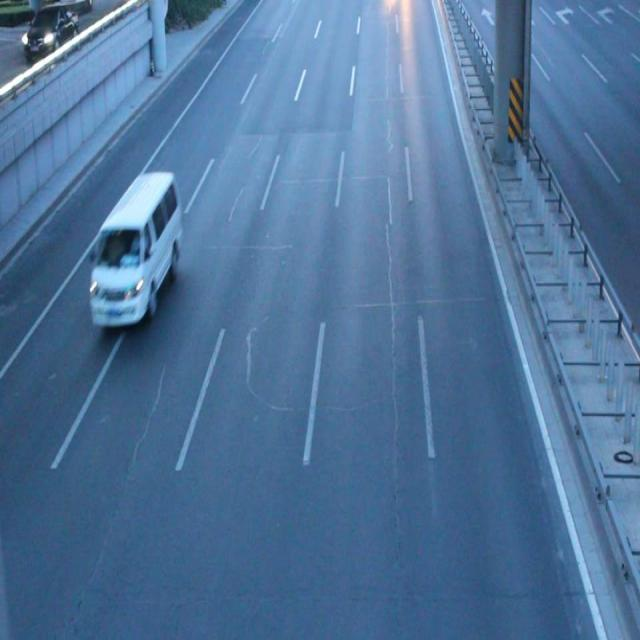truck: (90, 172, 180, 326)
